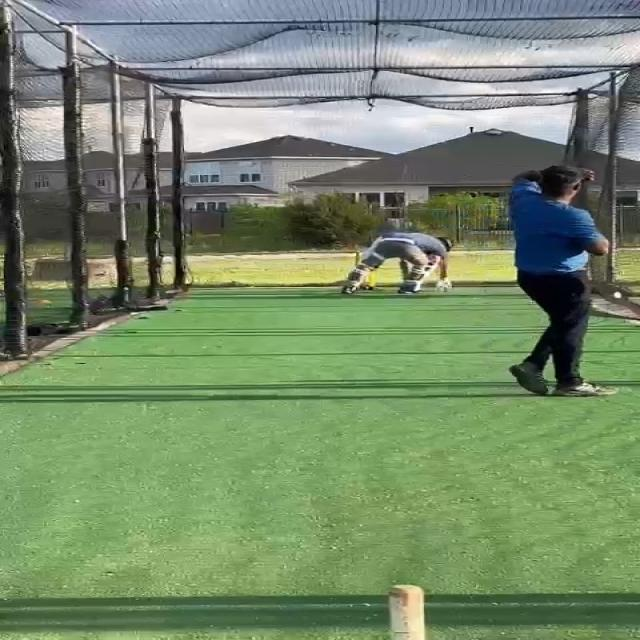batsman: (338, 229, 456, 297)
